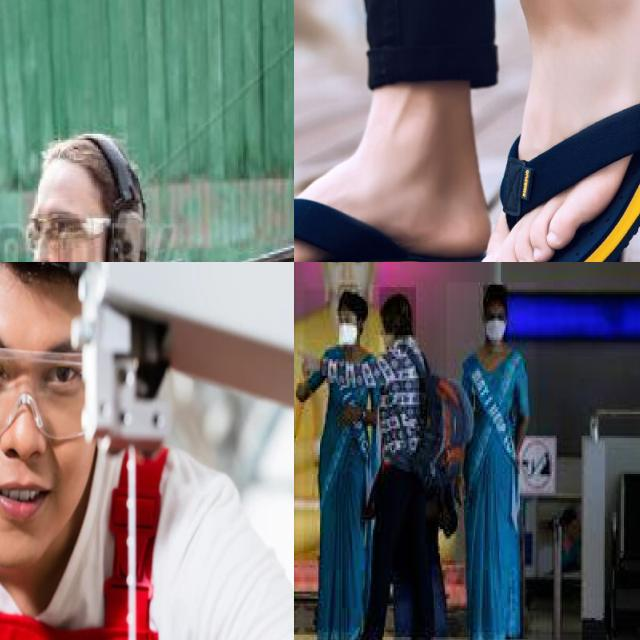Ear-protection: (0, 262, 166, 560), (103, 192, 150, 262)
Sandals: (466, 0, 640, 262), (294, 179, 488, 262)
face_mask: (485, 306, 507, 342), (339, 311, 357, 345)
face_nomask: (18, 206, 90, 262), (379, 316, 400, 352)
glasses: (0, 315, 118, 446), (21, 208, 110, 252)
head_nohelmet: (26, 128, 145, 198), (379, 287, 416, 335), (338, 285, 360, 316), (483, 285, 507, 306)
person: (0, 262, 249, 640), (446, 282, 537, 640), (0, 115, 220, 262), (364, 275, 438, 640), (304, 289, 371, 640)
shoes: (386, 626, 437, 640)
